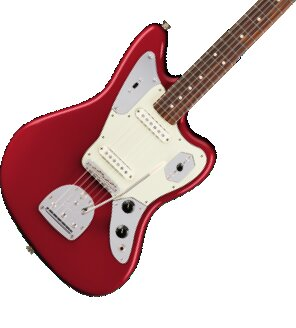ElectricGuitar: (1, 1, 296, 292)
